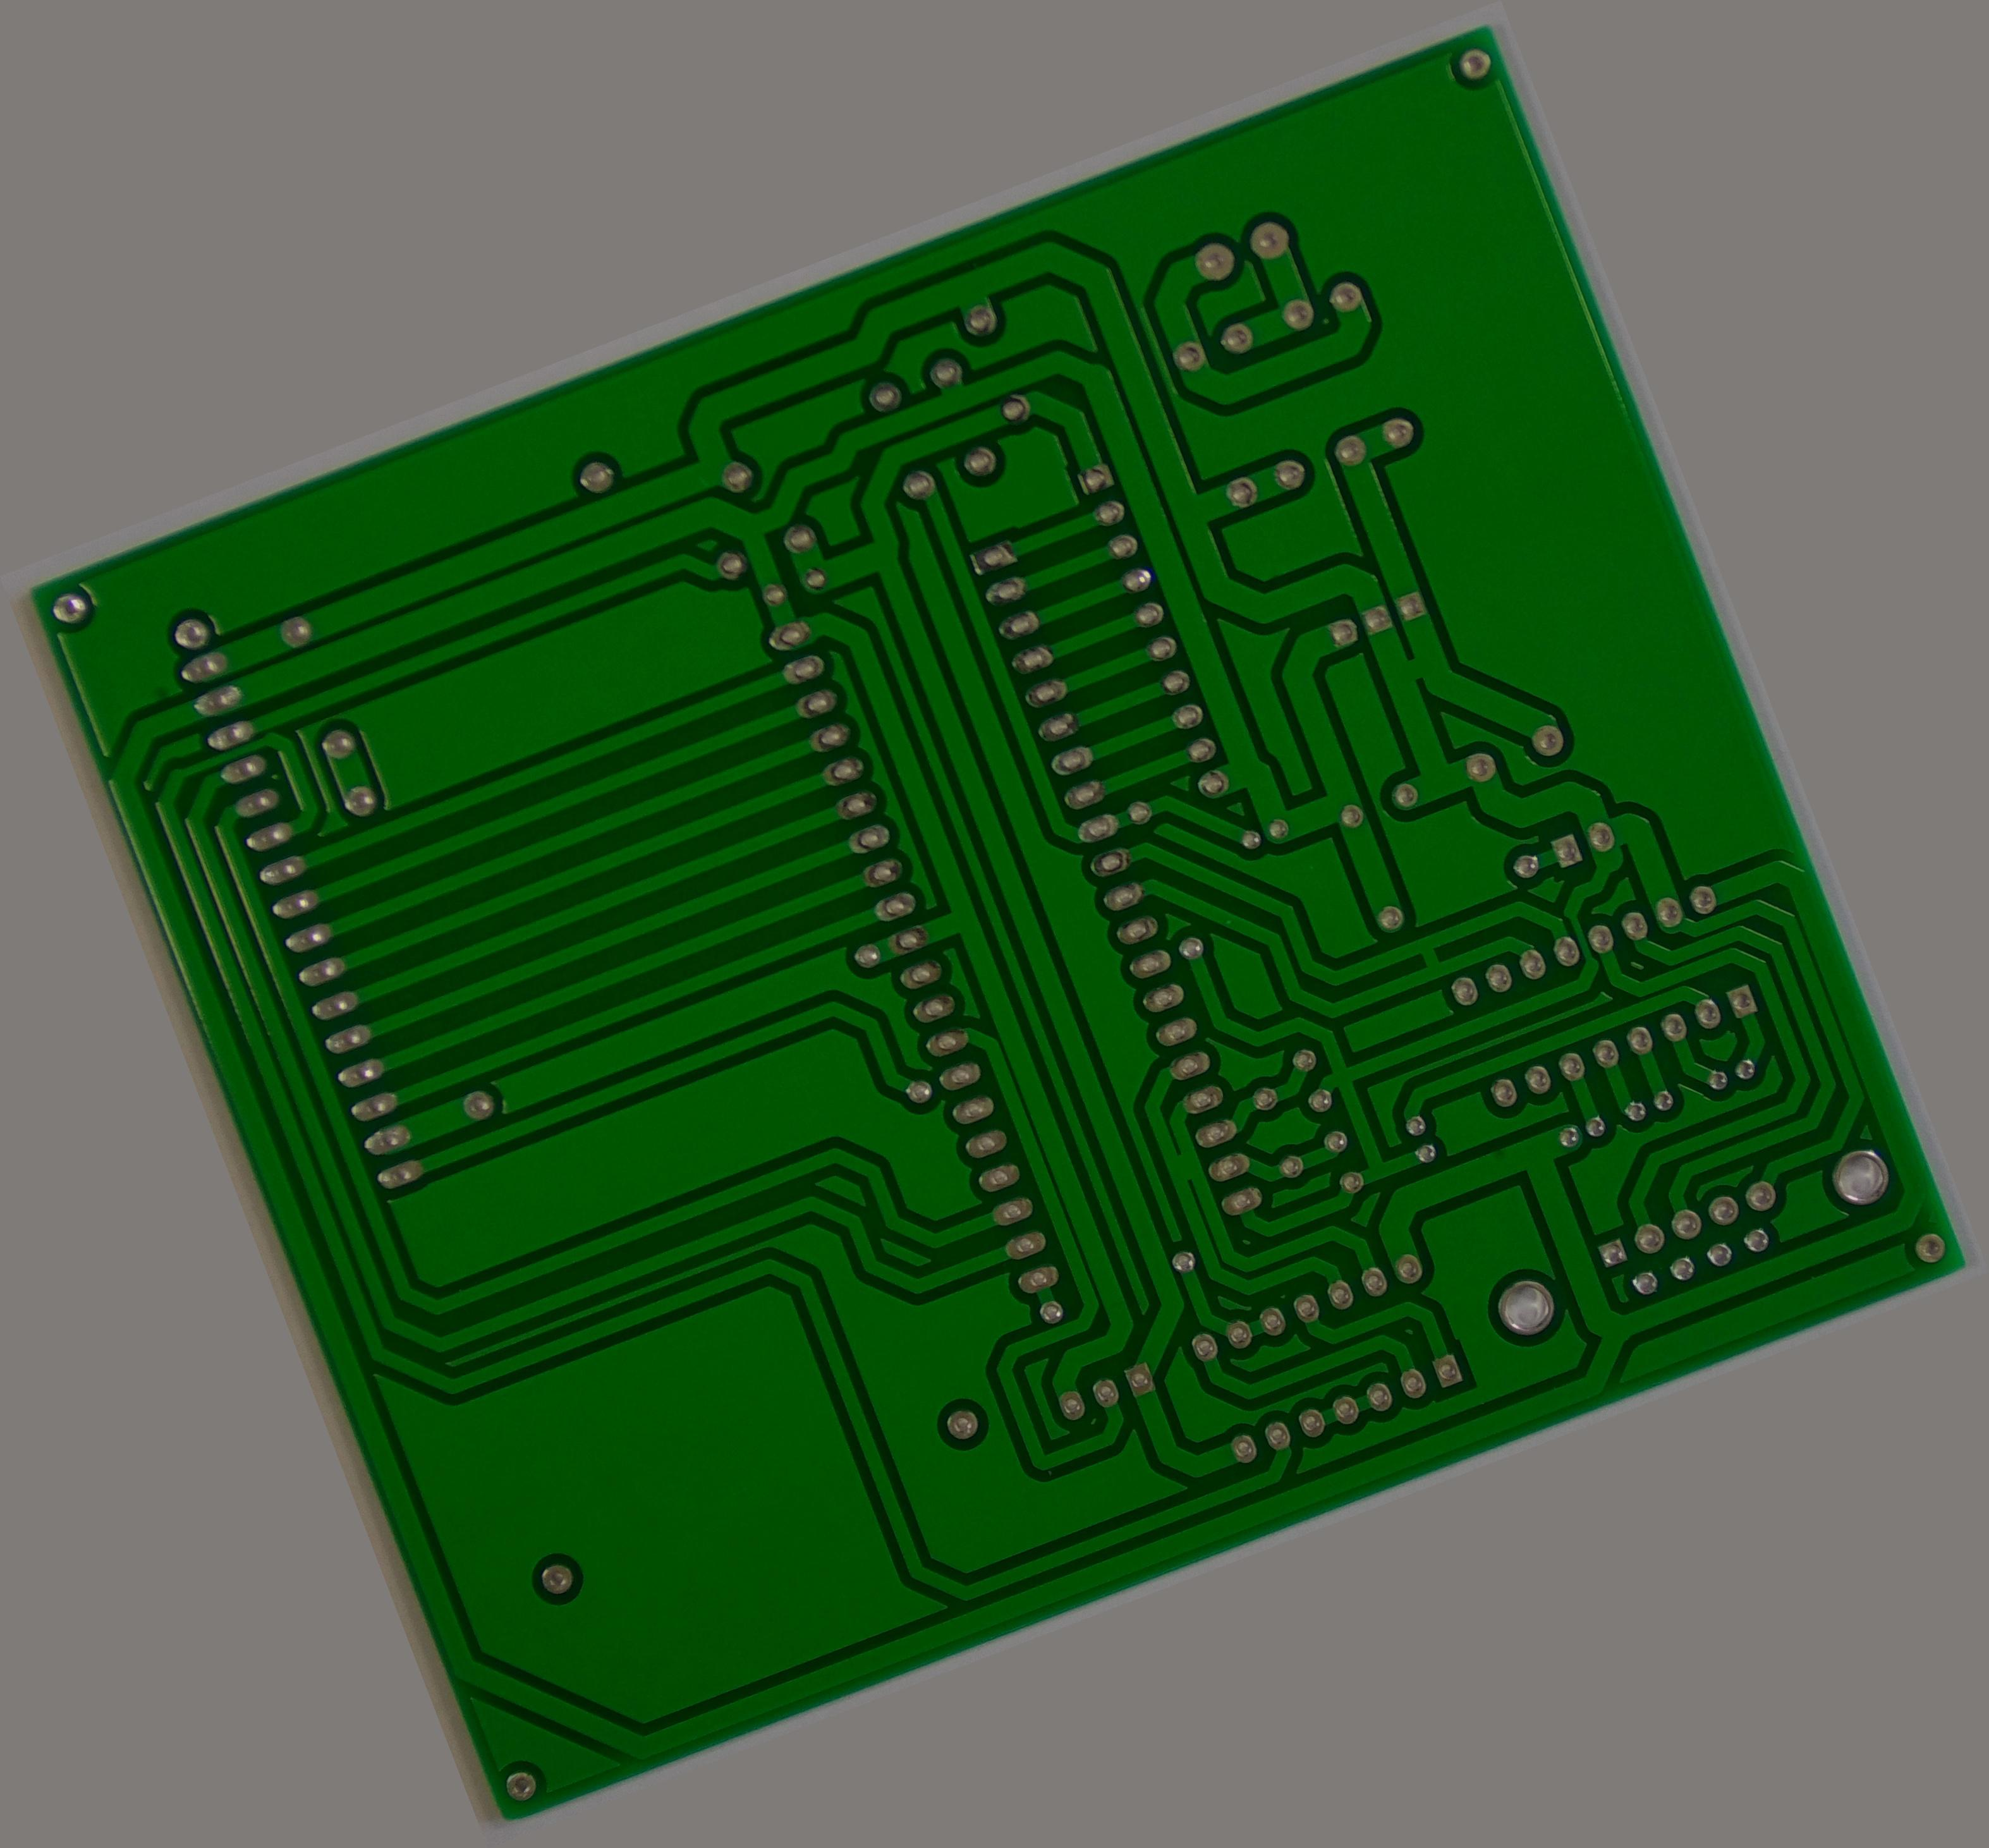short: (1374, 634, 1461, 707), (1397, 922, 1463, 988), (1155, 1139, 1213, 1198)
